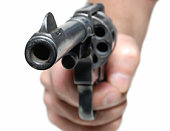Revolver: (14, 1, 135, 123)
